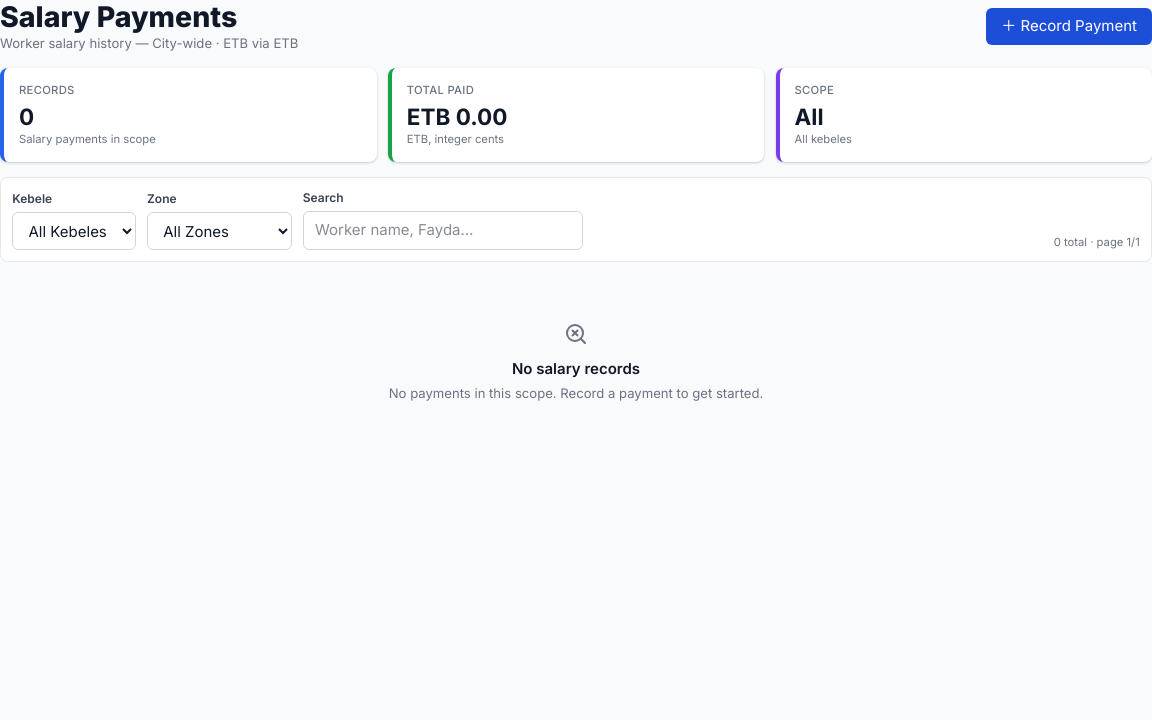
it: Salary page › validates amount: rejects non-positive amount
The width and height of the screenshot is (1152, 720).
Click the button "＋ Record Payment".
click(1069, 26)  # box [986,8,1151,45]
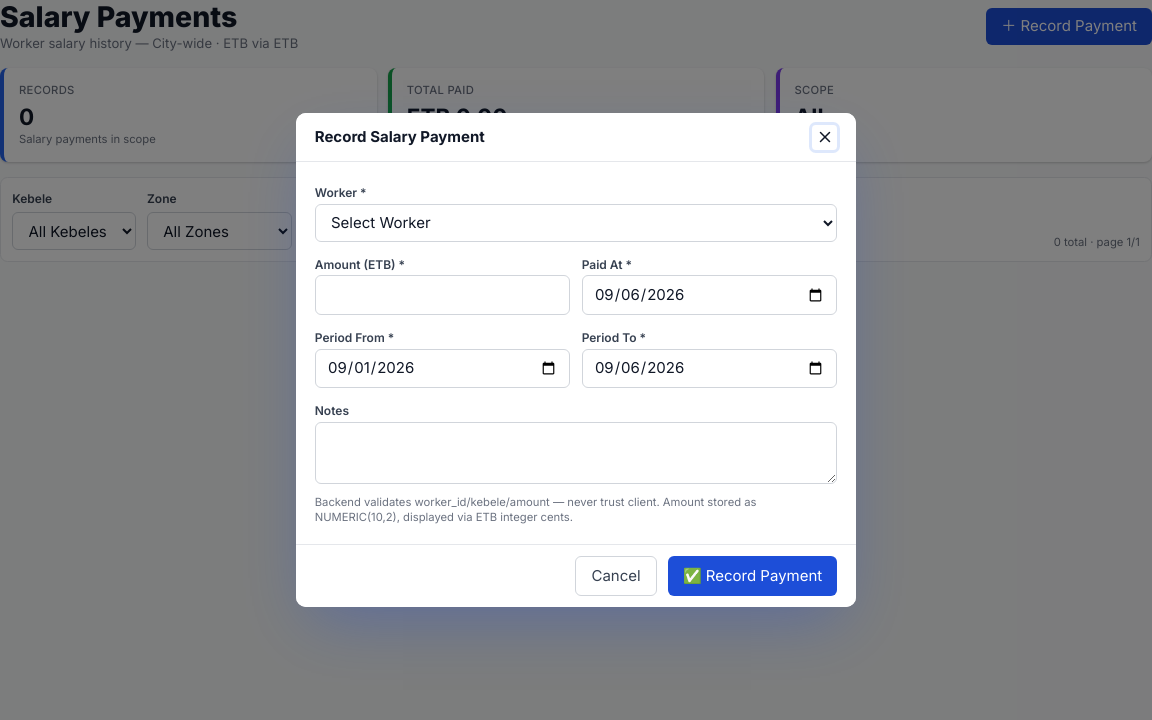
Result: the heading "Record Salary Payment" is shown at [315,126,485,148]
// pick a worker
Select "Abebe Bekele — Zone 10" in the dropdown labelled "Worker *" at (576, 222), box [315,204,837,242]
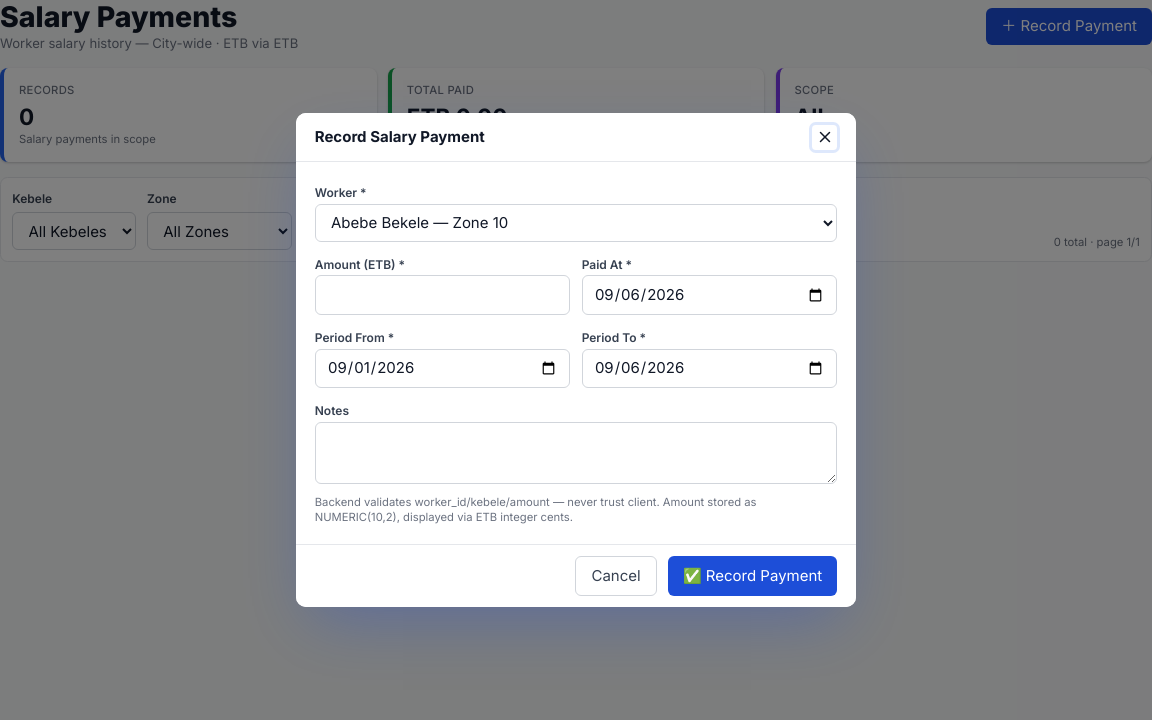
Click the button "✅ Record Payment".
click(753, 576)  # box [668,556,837,596]
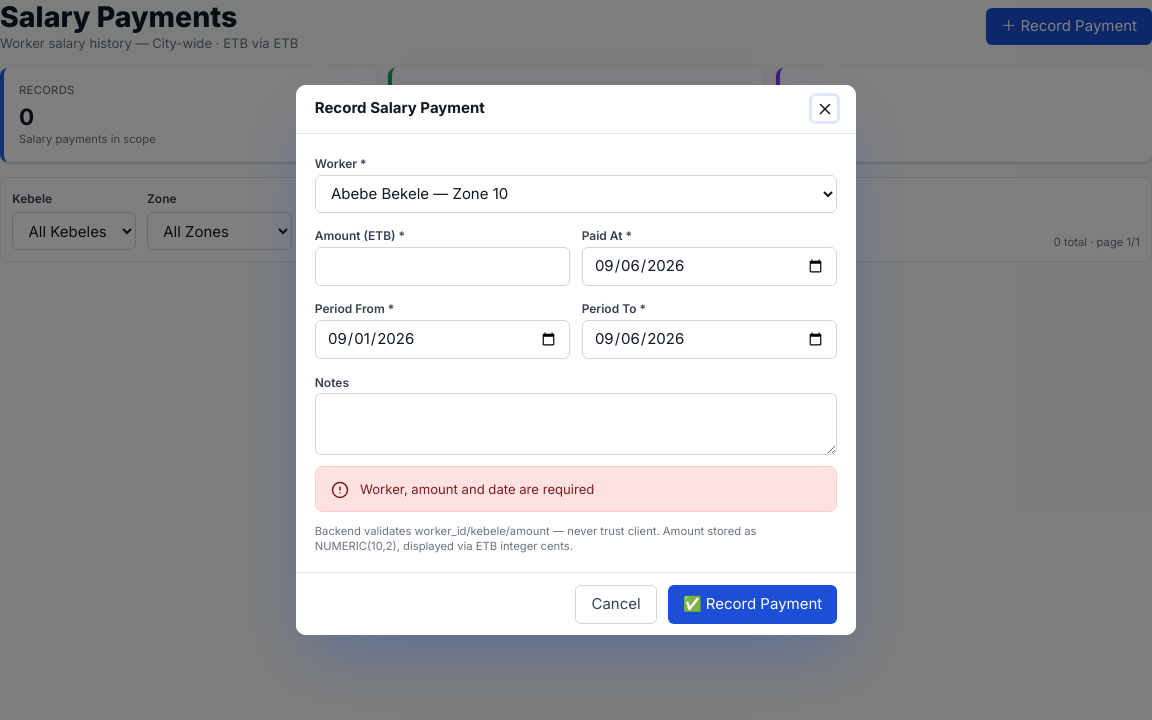
Result: the text "Worker, amount and date are required" is shown at [360,479,594,500]
